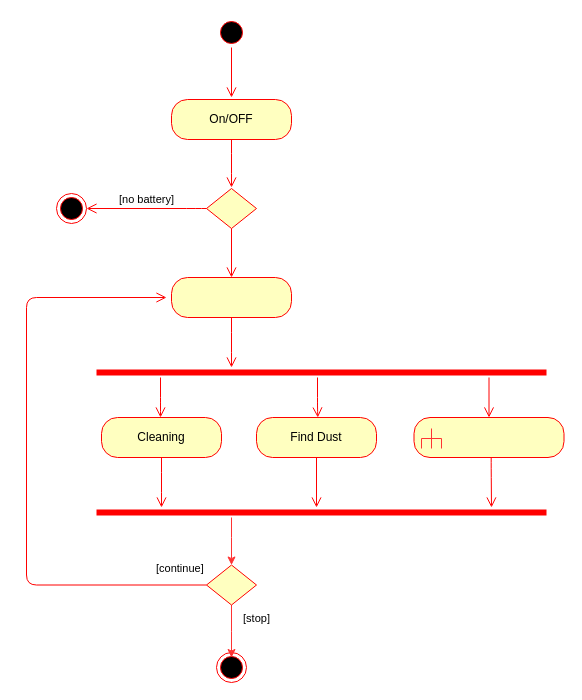
Image size: 582x700. Some labels were removed from this diagram. The centre of each missing label's shape, as x and y in pixels:
"Detect Obstacle" goes at point 488,437.
"Move" goes at point 231,297.
